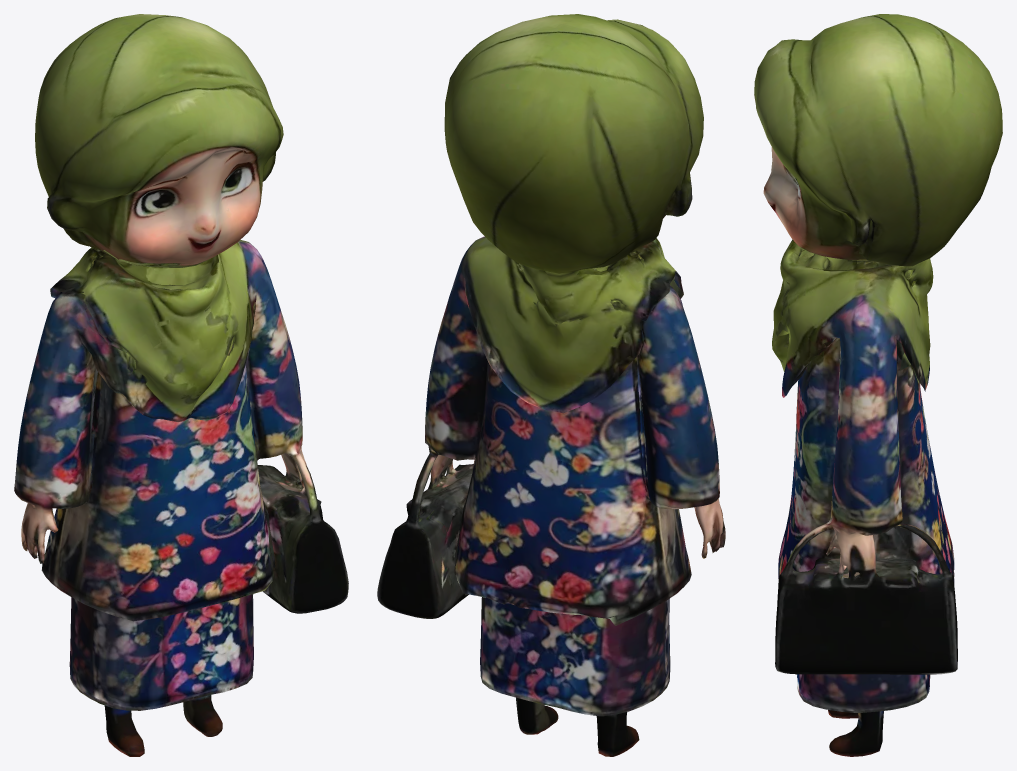
Rendered from Hijab.glb.
3 views of the same model, side by side, from view 1: azimuth 30°, elevation 25°; view 2: azimuth 150°, elevation 25°; view 3: azimuth 270°, elevation 25° (orthographic). The views are drawn at different scales.
Parts seen in each view (by area): view 1: Mesh0; view 2: Mesh0; view 3: Mesh0.
Boxes of the visible parts, left/top/right/bottom form: Mesh0: left=14, top=14, right=348, bottom=756; Mesh0: left=377, top=14, right=725, bottom=756; Mesh0: left=754, top=14, right=1002, bottom=756.
Bounding box in the file's own units: 0.8545 × 2 × 0.6371.
1 material, 1 textured.
